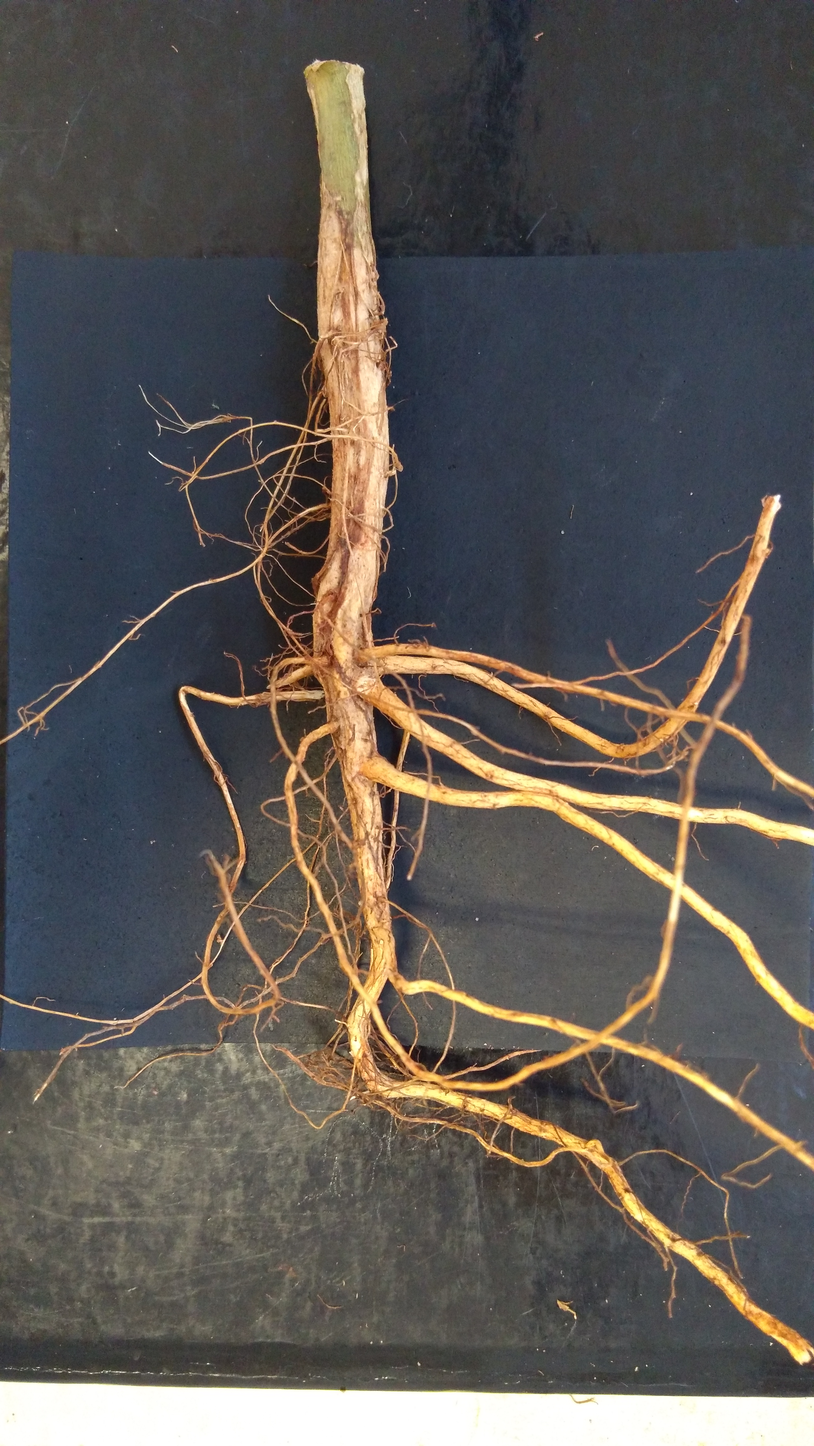nodule: (308, 1047, 332, 1064), (585, 1139, 604, 1153), (372, 317, 388, 332), (761, 548, 772, 558), (385, 470, 396, 477), (385, 370, 392, 379)
